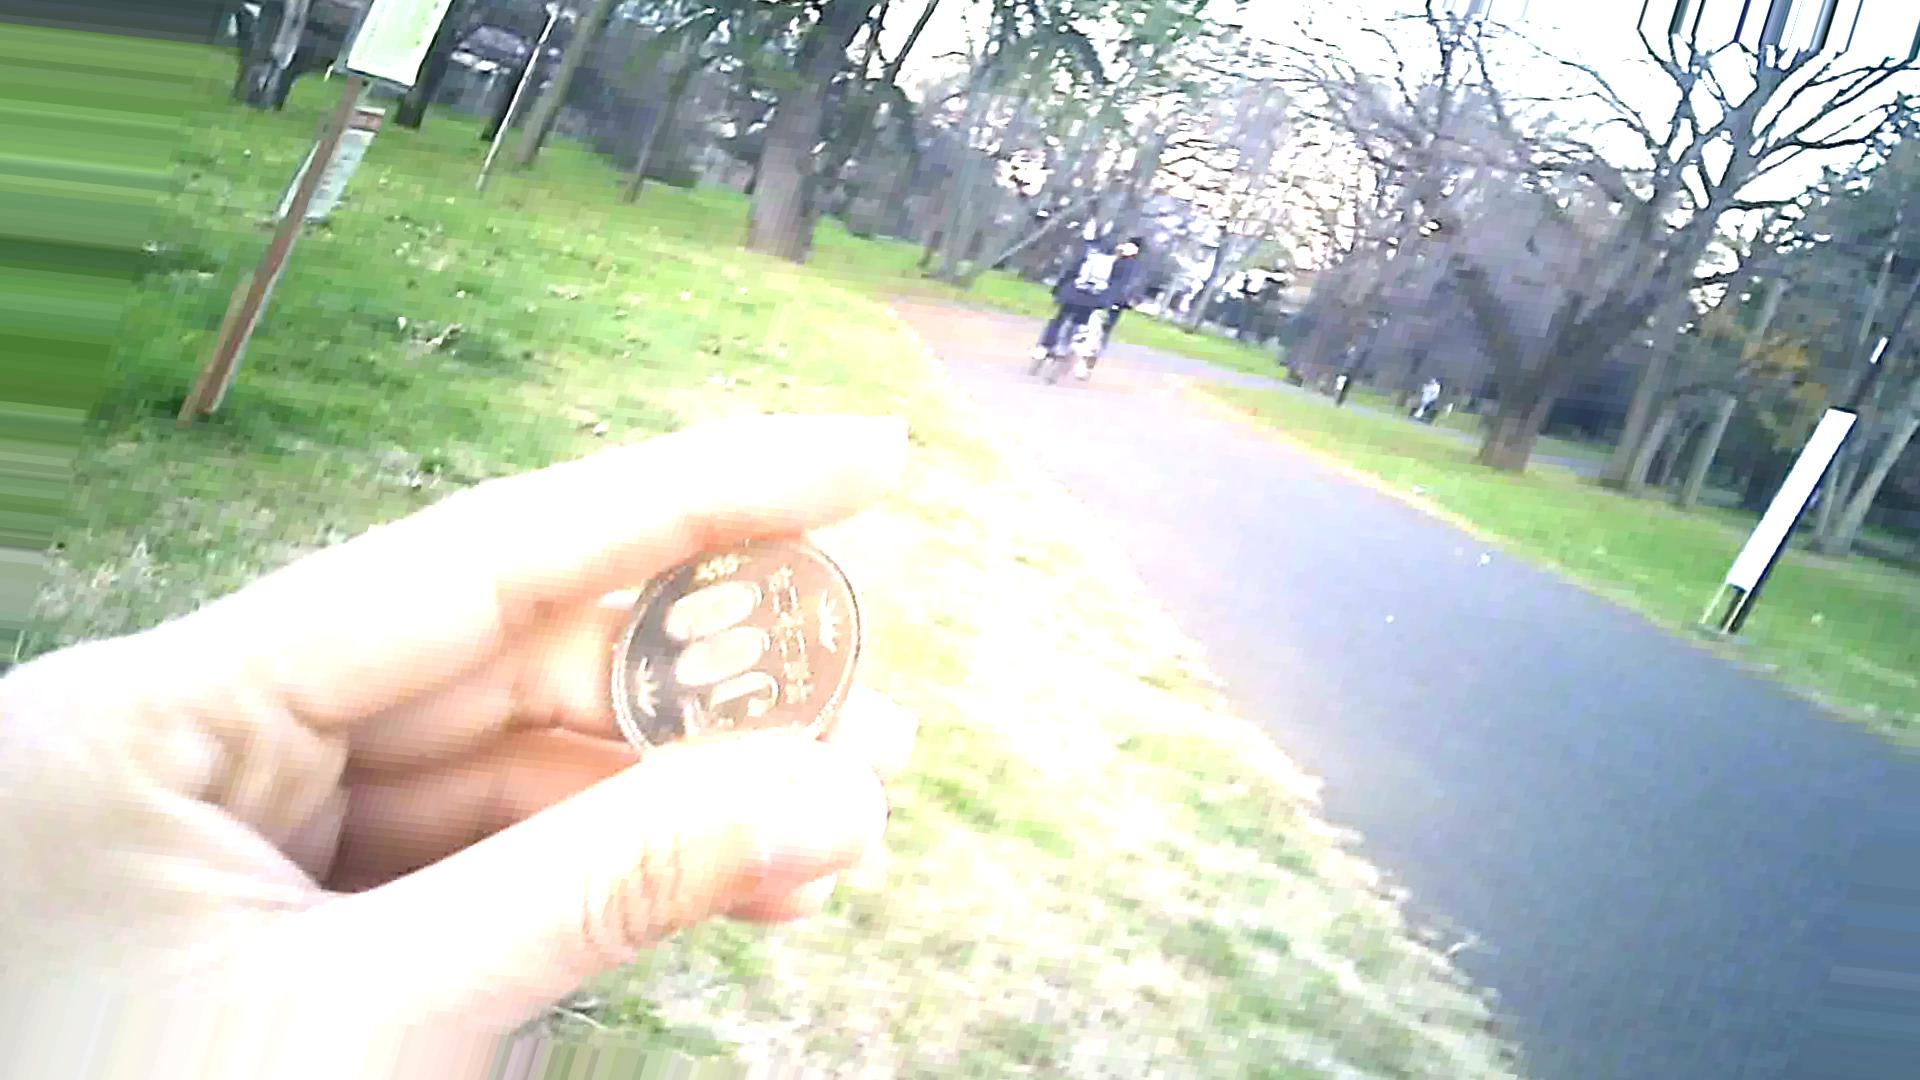500 Yen: (605, 518, 865, 778)
